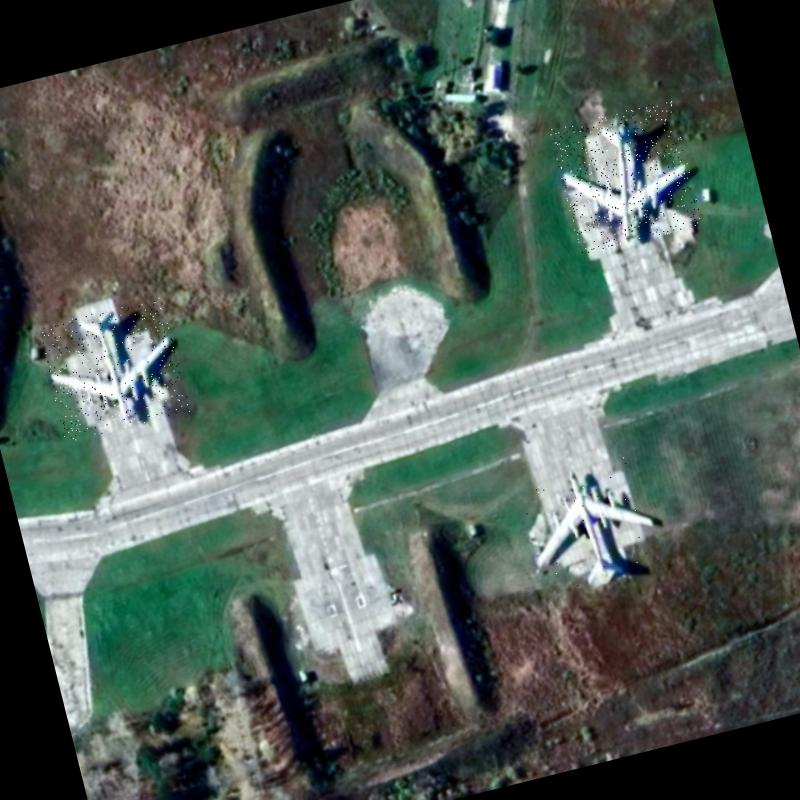A17: (548, 98, 702, 256), (36, 296, 190, 442), (518, 452, 668, 596)
